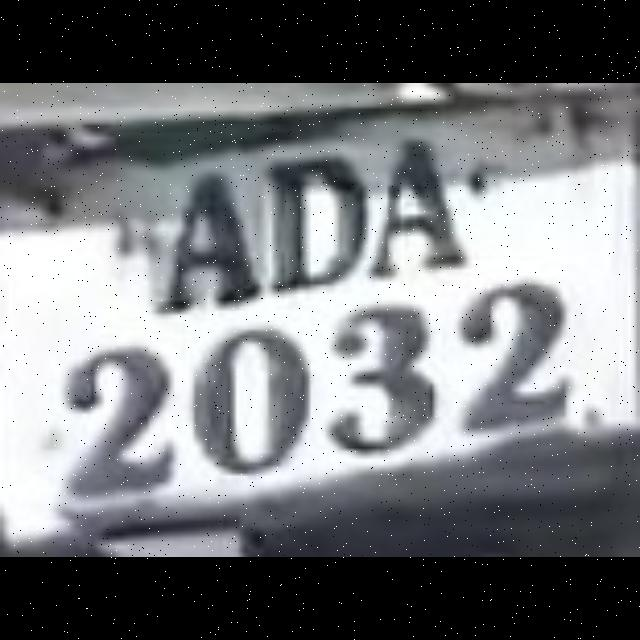0: (182, 327, 316, 489)
2: (444, 280, 580, 452), (24, 348, 176, 490)
3: (314, 297, 430, 485)
A: (127, 168, 266, 314), (373, 130, 467, 274)
D: (268, 148, 370, 292)
